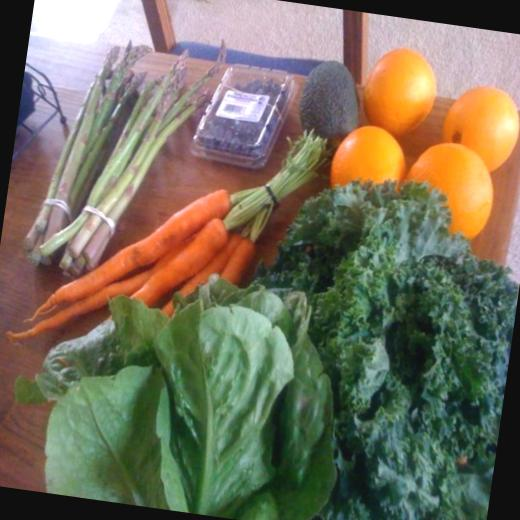Grape: (402, 137, 500, 242), (436, 82, 520, 178), (358, 46, 443, 140), (326, 120, 414, 197)
